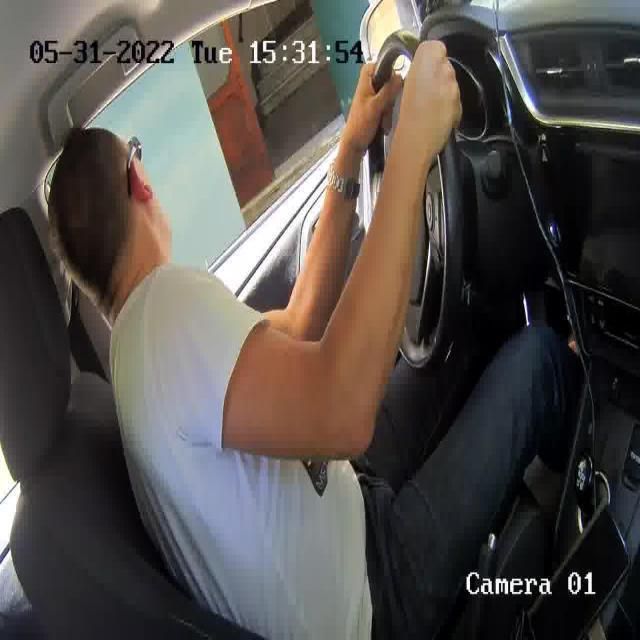Inattentive: (50, 127, 173, 267)
